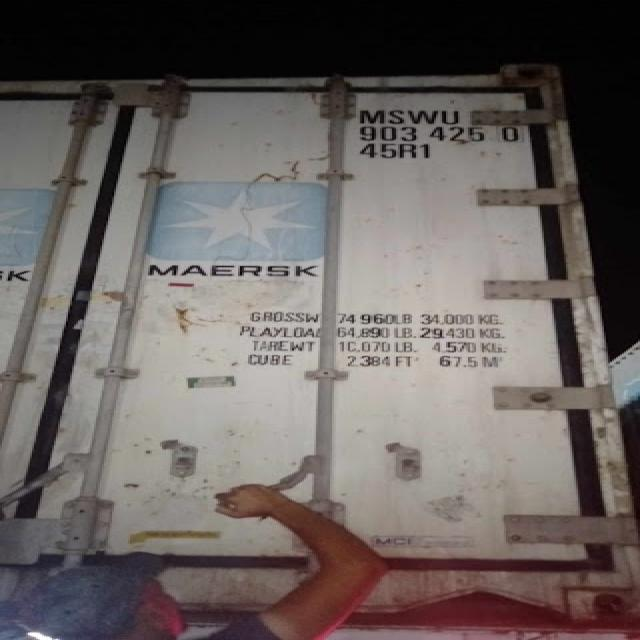ISO: (360, 138, 438, 164)
container_number: (353, 103, 523, 144)
